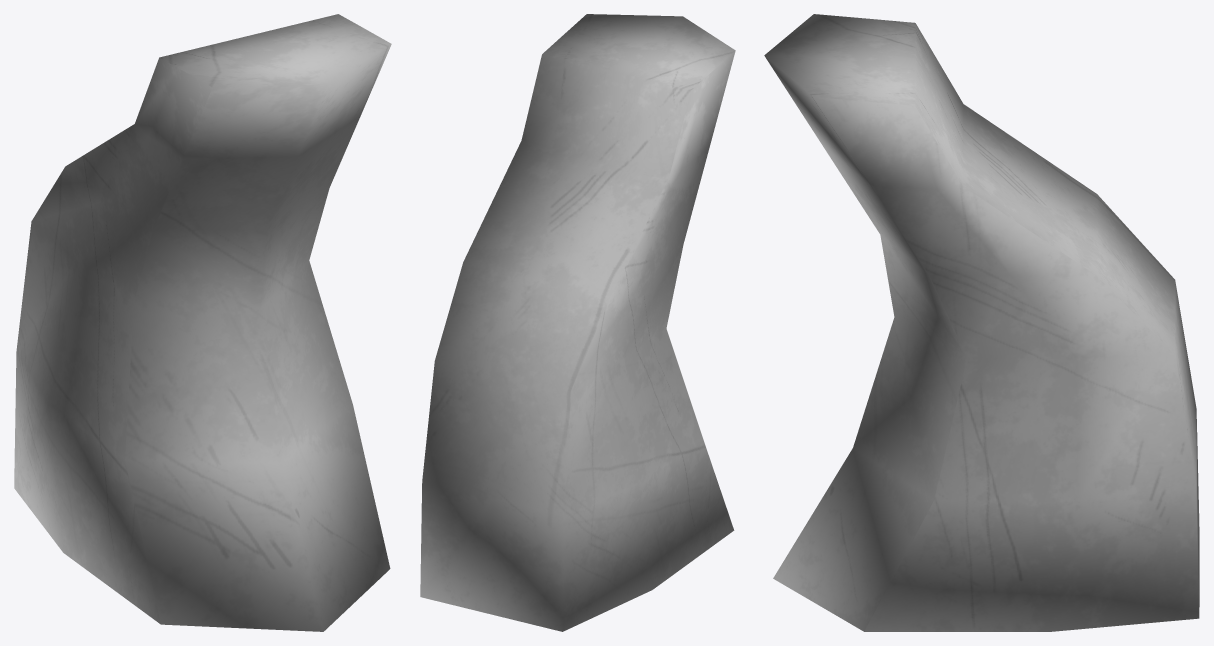
Rendered from Boots.fbx.
3 renders of one model, left to right at view 1: azimuth 30°, elevation 25°; view 2: azimuth 150°, elevation 25°; view 3: azimuth 270°, elevation 25°, orthographic. The views are drawn at different scales.
Visible parts, largest first — view 1: Boot; view 2: Boot; view 3: Boot.
Boxes of the visible parts, x1,y1,x2,y2 form: Boot: (14, 14, 391, 631); Boot: (420, 14, 735, 631); Boot: (764, 14, 1199, 631).
Bounding box in the file's own units: 22.29 × 52.29 × 38.54.
